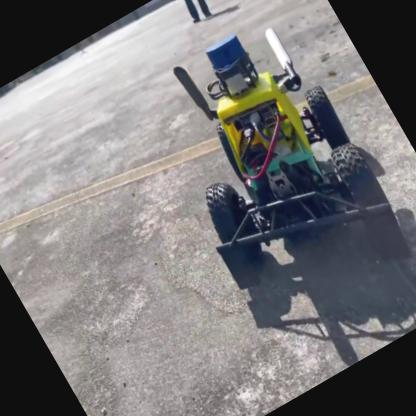mushr_car: (126, 1, 415, 336)
